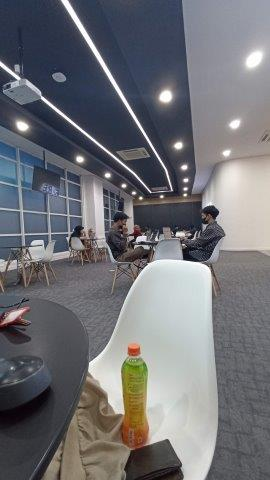botolplastik: (121, 344, 150, 446)
